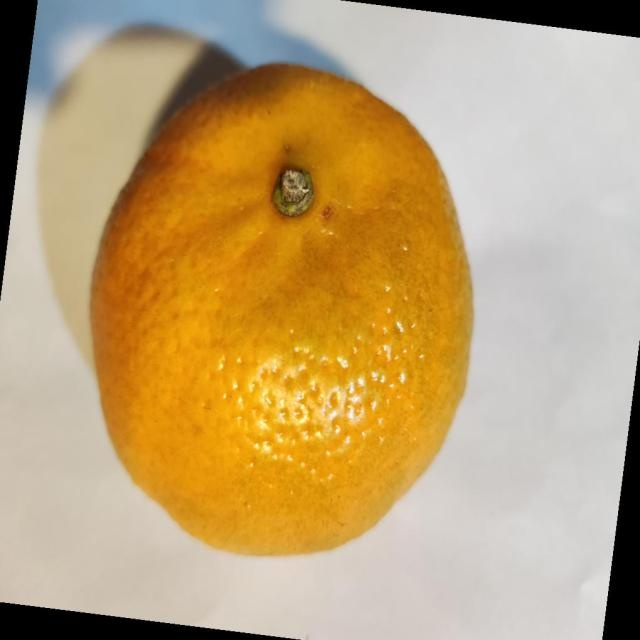agrume: (87, 60, 475, 557)
